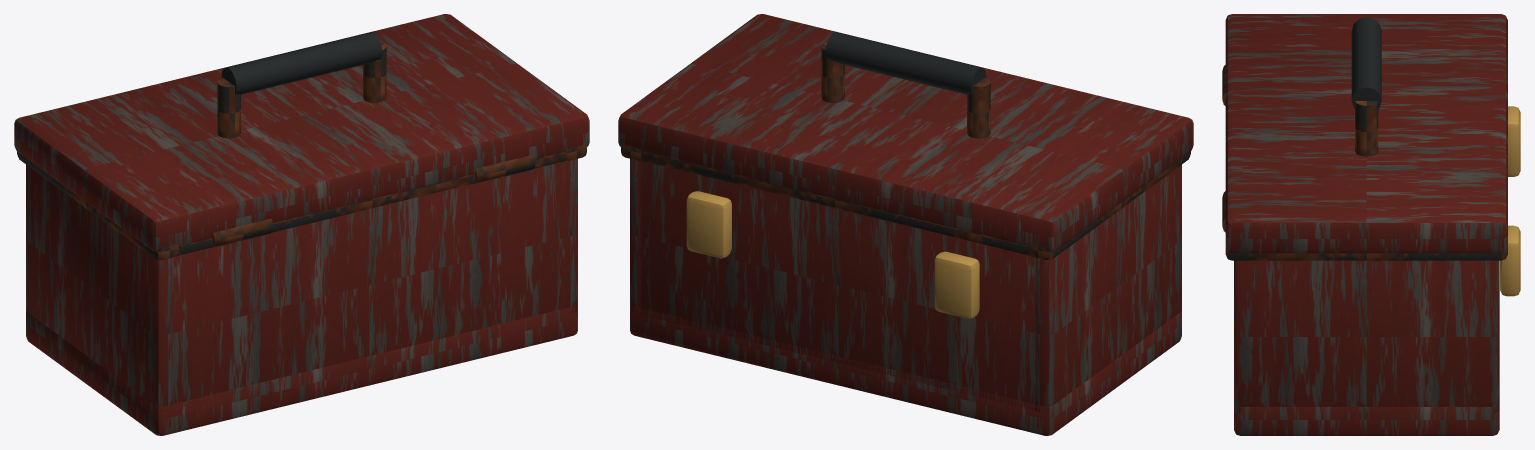
The model's file is SM_ClosedToolCase_86f831e45e.fbx.
The picture shows the model from 3 angles, left to right: view 1: azimuth 30°, elevation 25°; view 2: azimuth 150°, elevation 25°; view 3: azimuth 270°, elevation 25°; orthographic projection.
Parts seen in each view (by area): view 1: SM_ClosedToolCase_86f831e45e; view 2: SM_ClosedToolCase_86f831e45e; view 3: SM_ClosedToolCase_86f831e45e.
Part boxes in pixels (left/top/right/bottom): SM_ClosedToolCase_86f831e45e: left=14, top=14, right=589, bottom=435; SM_ClosedToolCase_86f831e45e: left=618, top=14, right=1193, bottom=435; SM_ClosedToolCase_86f831e45e: left=1222, top=14, right=1520, bottom=435.
Size of what is drawn, in the model's own units: 60 by 35.95 by 37.8.
4 materials, 2 textured.
